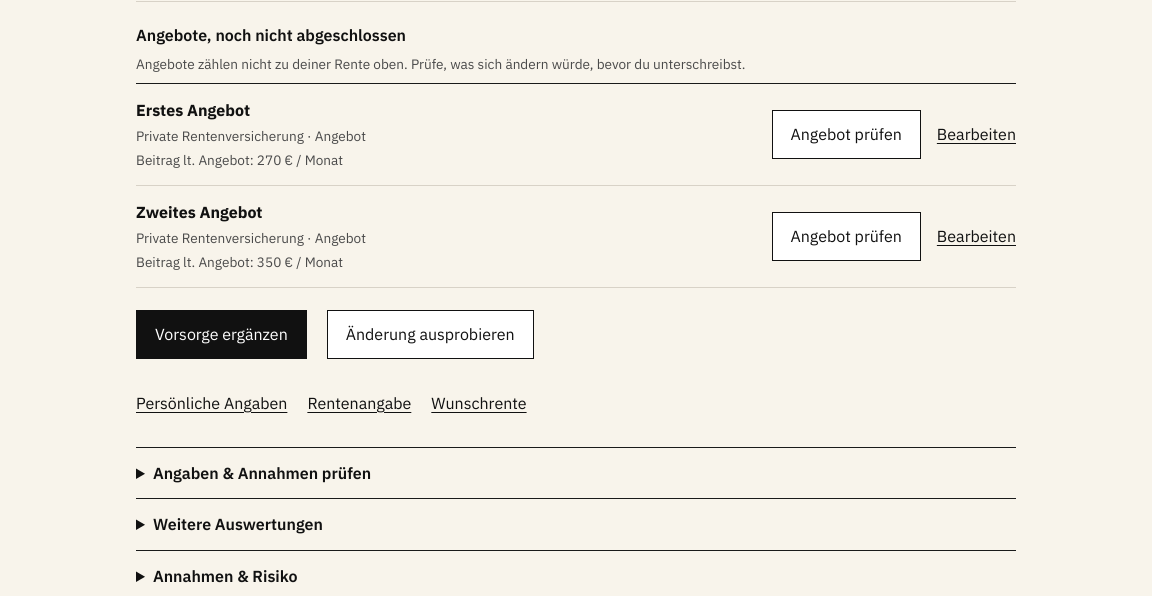
Test: reviews the clicked offer at its quoted contribution without activating the plan
(page scrolled)
Click the button with aria-label "Angebot prüfen: Zweites Angebot" at coordinates (846, 237), box top-left (772, 212), bottom-right (921, 261)
(page scrolled)
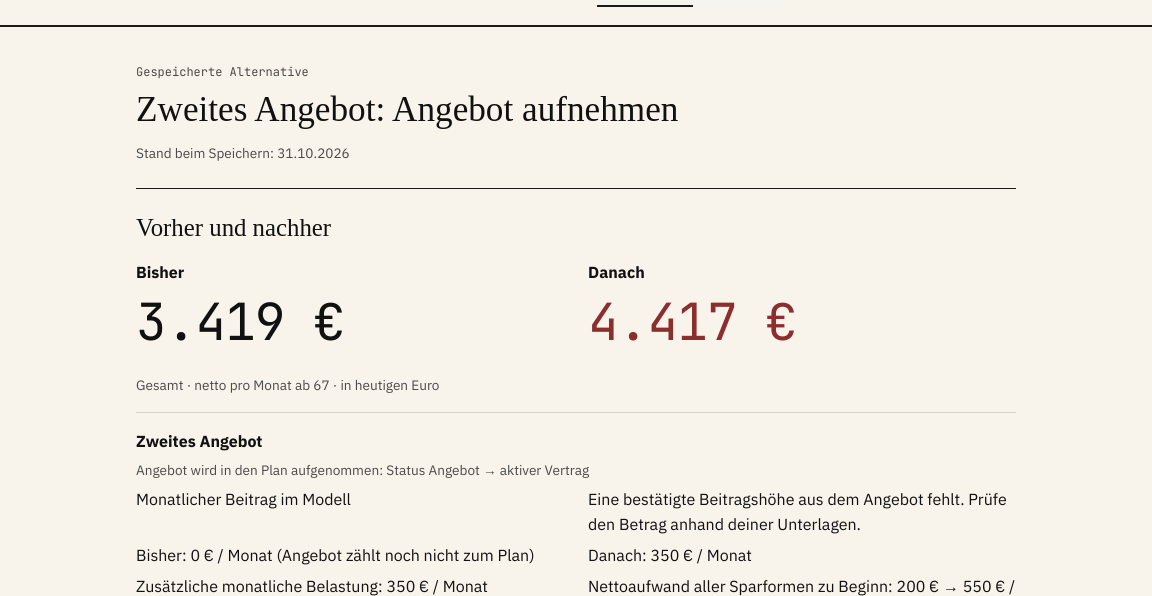
Expected: the text "Danach: 350 € / Monat" is shown, top-left (588, 545), bottom-right (752, 565)
